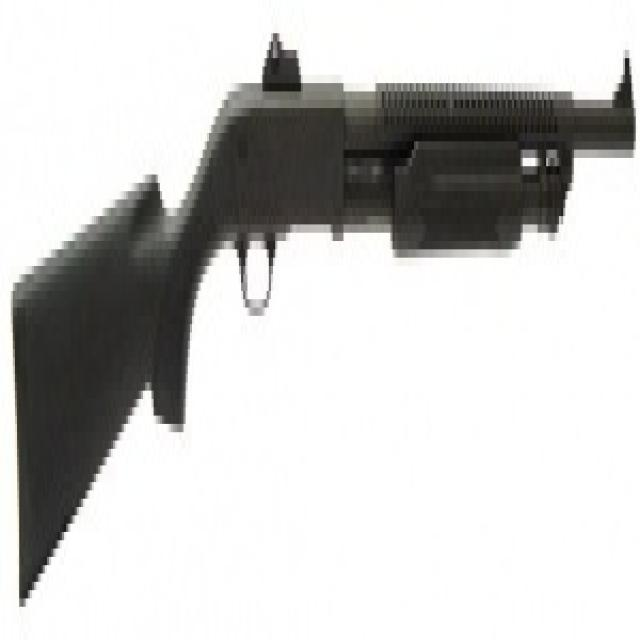rifle: (12, 41, 640, 609)
